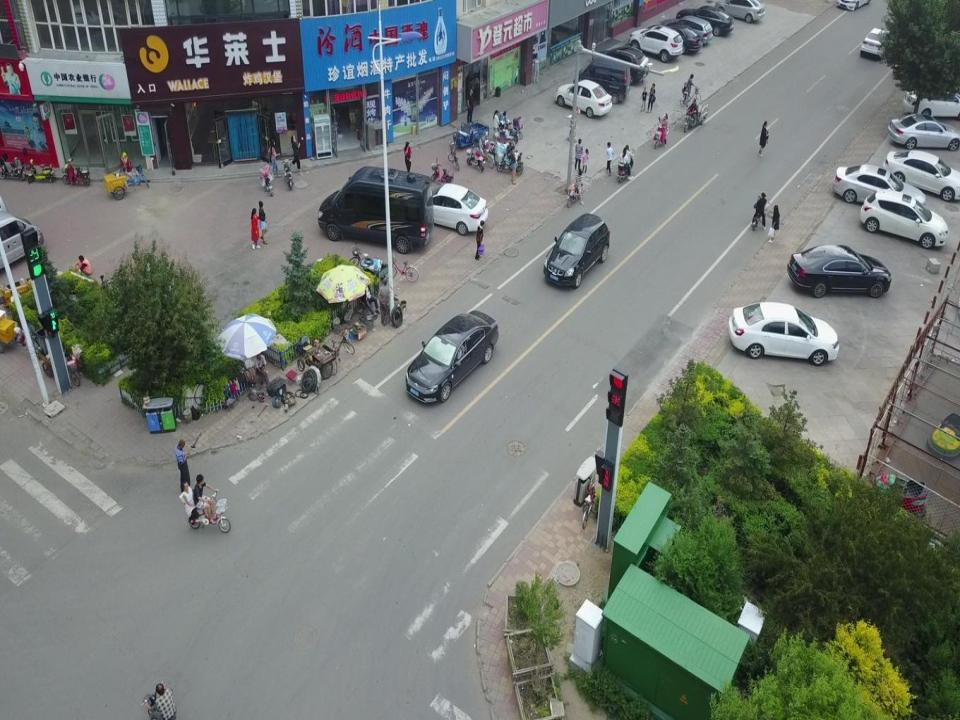car: (404, 308, 500, 404), (727, 302, 841, 366), (859, 186, 950, 250), (786, 244, 891, 297), (543, 211, 610, 287), (832, 165, 928, 214), (882, 150, 960, 202), (412, 183, 489, 234), (887, 113, 960, 150), (556, 78, 612, 118), (593, 45, 649, 85), (628, 25, 684, 62), (903, 86, 960, 120), (675, 4, 735, 36), (658, 15, 713, 45), (654, 24, 703, 55), (714, 0, 766, 23), (861, 28, 895, 60)
van: (317, 166, 434, 253), (0, 208, 44, 276), (573, 56, 631, 103)
